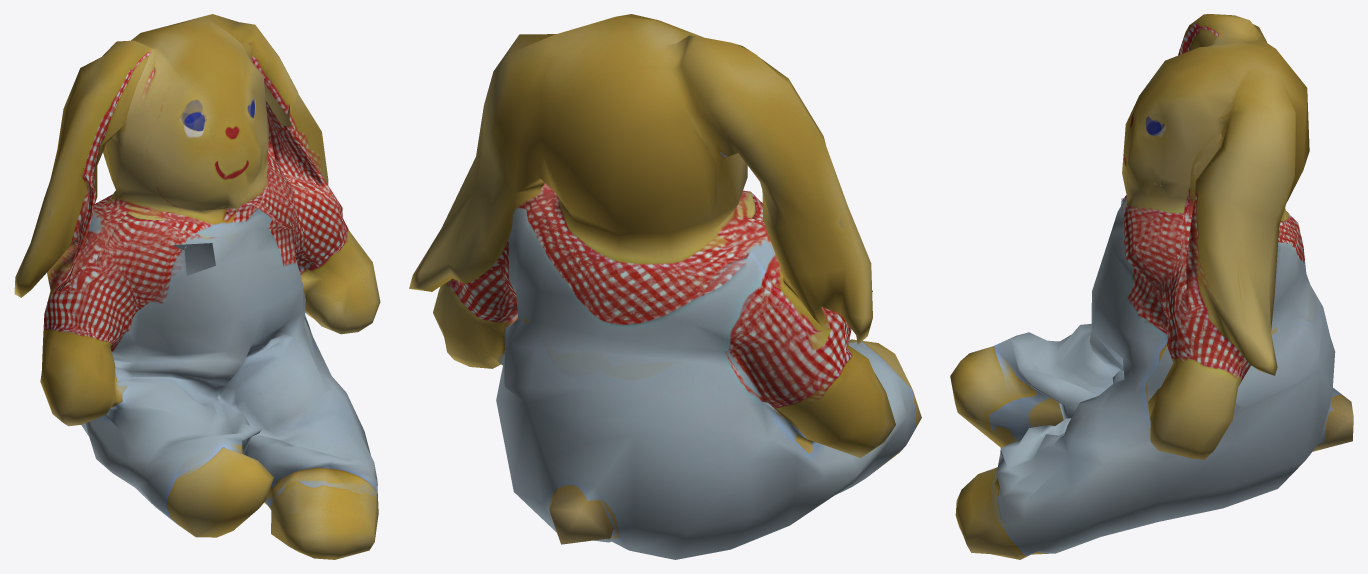
The model's file is BackGroundBunny.fbx.
The picture shows the model from 3 angles, left to right: view 1: azimuth 30°, elevation 25°; view 2: azimuth 150°, elevation 25°; view 3: azimuth 270°, elevation 25°; orthographic projection. The views are drawn at different scales.
Visible parts, largest first — view 1: tripo_node_b24734a7; view 2: tripo_node_b24734a7; view 3: tripo_node_b24734a7.
Part boxes in pixels (bbox=[...]): tripo_node_b24734a7: bbox=[14, 14, 380, 559]; tripo_node_b24734a7: bbox=[409, 14, 921, 559]; tripo_node_b24734a7: bbox=[950, 14, 1353, 559].
Bounding box in the file's own units: 0.7844 × 0.9793 × 0.7447.
Materials: 1 (1 with a texture image).
